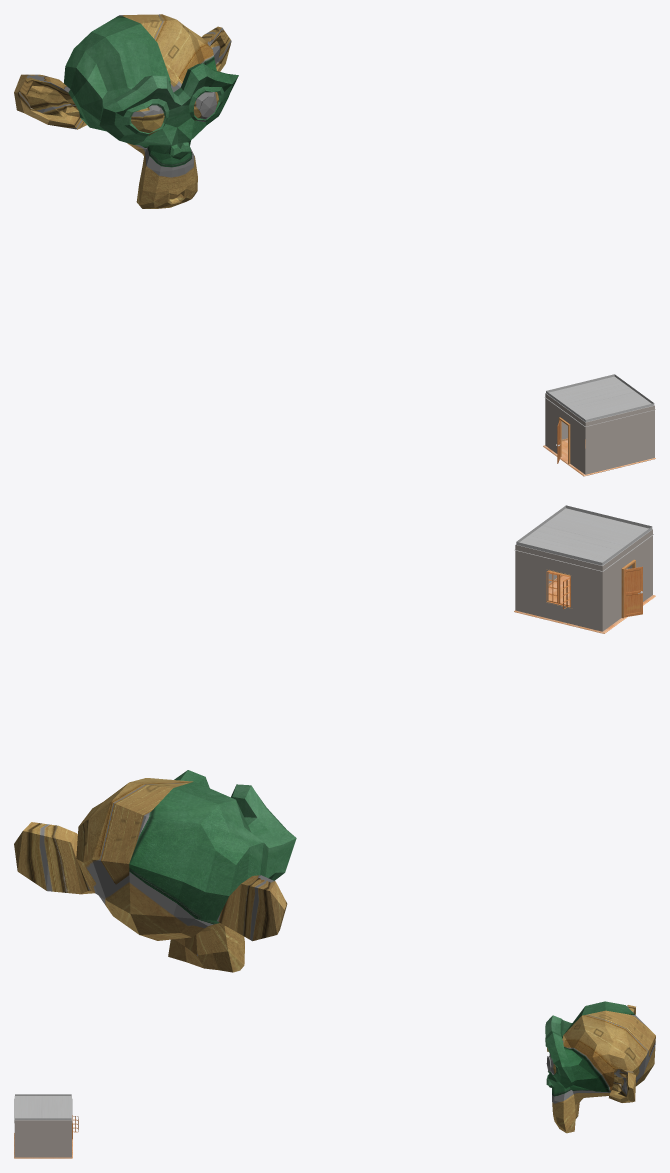
The model's file is environment2.glb.
3 renders of one model, top to bottom at view 1: azimuth 30°, elevation 25°; view 2: azimuth 150°, elevation 25°; view 3: azimuth 270°, elevation 25°, orthographic. The views are drawn at different scales.
Visible parts, largest first — view 1: Suzanne, walls; view 2: Suzanne, walls, door, floor; view 3: Suzanne, walls.
Part boxes in pixels (x1,y1,x2,y2): Suzanne: (14,14,238,208); walls: (544,374,655,474); Suzanne: (14,770,296,972); walls: (514,505,653,631); door: (624,566,642,617); floor: (514,576,655,633); Suzanne: (545,1001,655,1133); walls: (14,1094,72,1157).
Size of what is drawn, in the model's own units: 12.22 by 8.8 by 44.12.
Materials: 13 (7 with a texture image).
